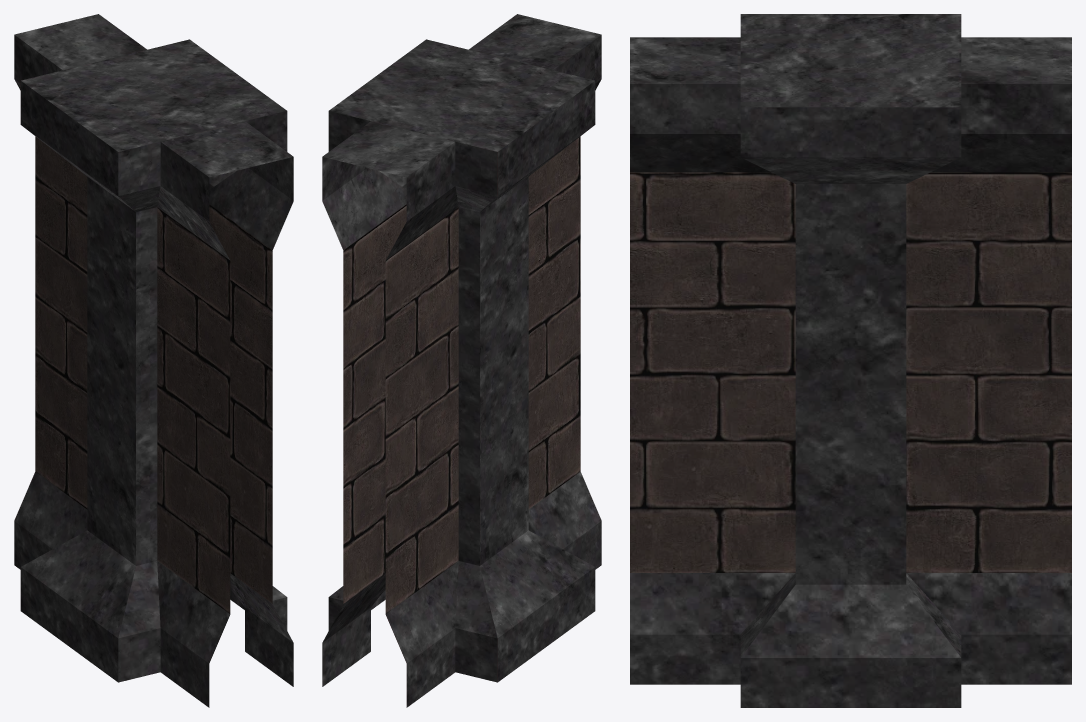
The model's file is Bk_WallThick.glb.
The picture shows the model from 3 angles, left to right: view 1: azimuth 30°, elevation 25°; view 2: azimuth 150°, elevation 25°; view 3: azimuth 270°, elevation 25°; orthographic projection. The views are drawn at different scales.
Visible parts, largest first — view 1: Bk_WallThick; view 2: Bk_WallThick; view 3: Bk_WallThick.
Part boxes in pixels (left/top/right/bottom): Bk_WallThick: left=14, top=14, right=293, bottom=707; Bk_WallThick: left=322, top=14, right=601, bottom=707; Bk_WallThick: left=630, top=14, right=1071, bottom=707.
Bounding box in the file's own units: 1 × 3 × 2.
Materials: 1 (1 with a texture image).
